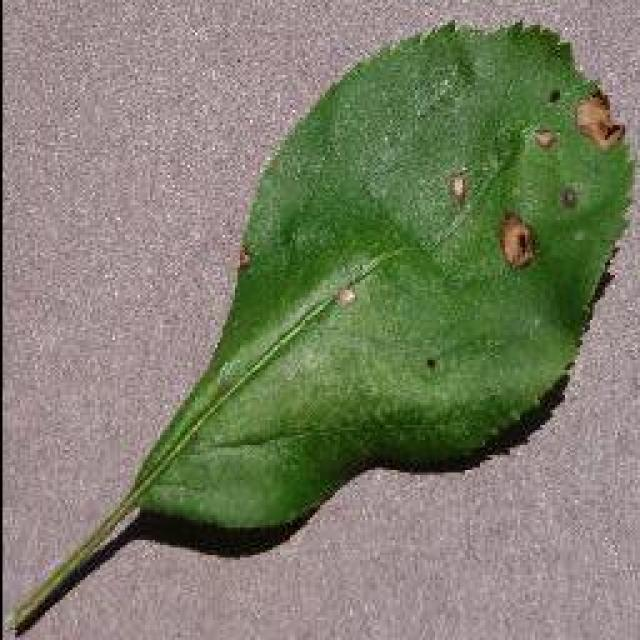Black_rot: (7, 15, 635, 637)
